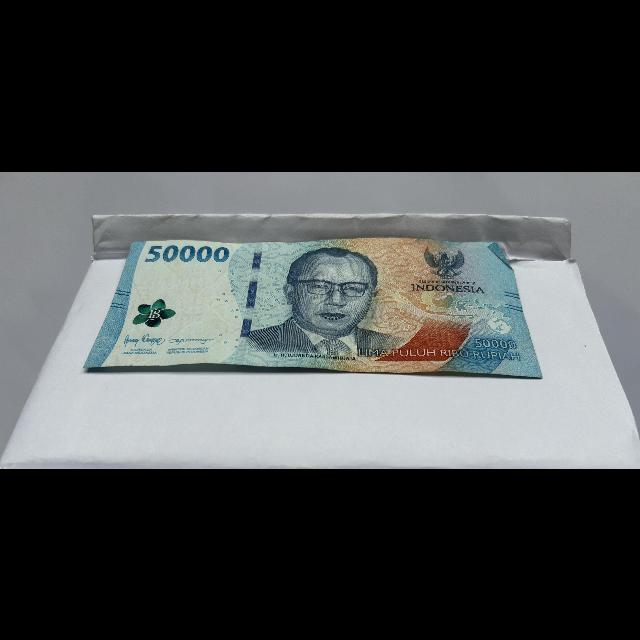Asli-50k: (80, 234, 546, 380)
Tinta-Asli-50k: (130, 297, 180, 328)
